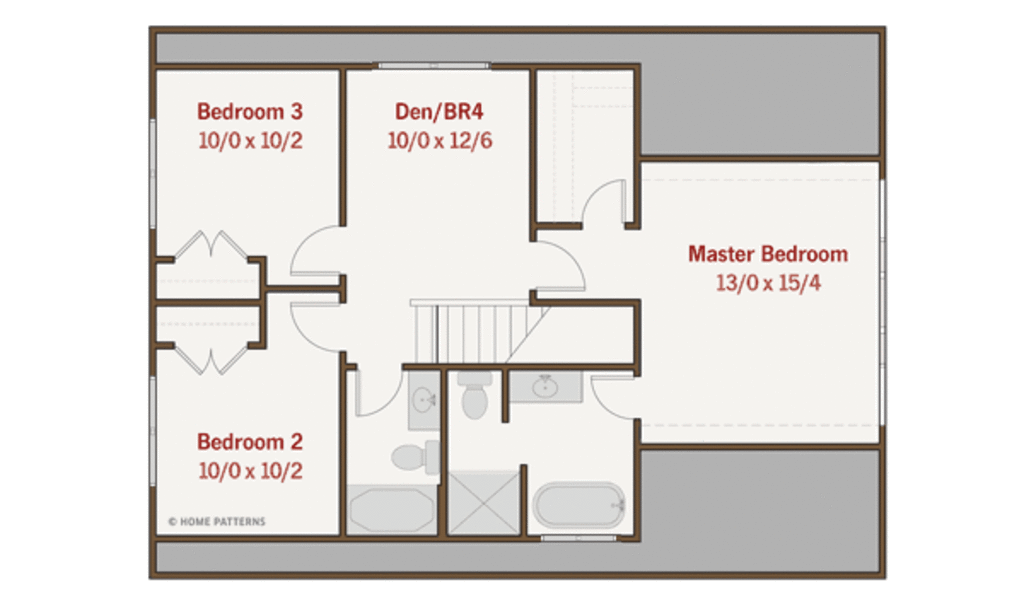door: (528, 233, 592, 297), (289, 297, 357, 357), (289, 222, 358, 275), (175, 223, 259, 262), (351, 362, 402, 416), (584, 371, 640, 419), (171, 343, 256, 373), (578, 177, 627, 227)
large_sink: (451, 367, 501, 422), (391, 433, 438, 475)
small_sink: (503, 368, 584, 404), (403, 368, 445, 432)
stairs: (402, 288, 649, 368)
tub: (527, 477, 637, 530), (341, 482, 431, 536)
window: (878, 181, 888, 426), (142, 372, 163, 488), (143, 120, 164, 232), (371, 56, 494, 73), (536, 529, 624, 542)
